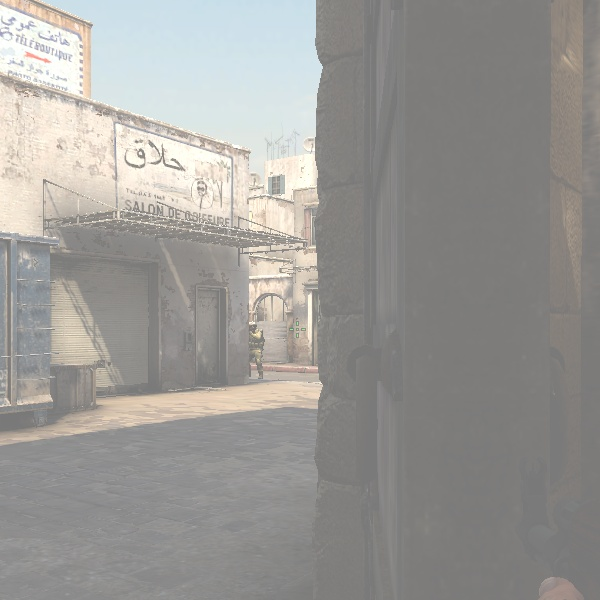ct_body: (247, 321, 266, 380)
ct_head: (248, 321, 257, 332)
